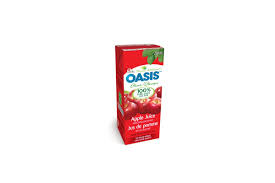Juice_Box: (110, 40, 163, 145)
